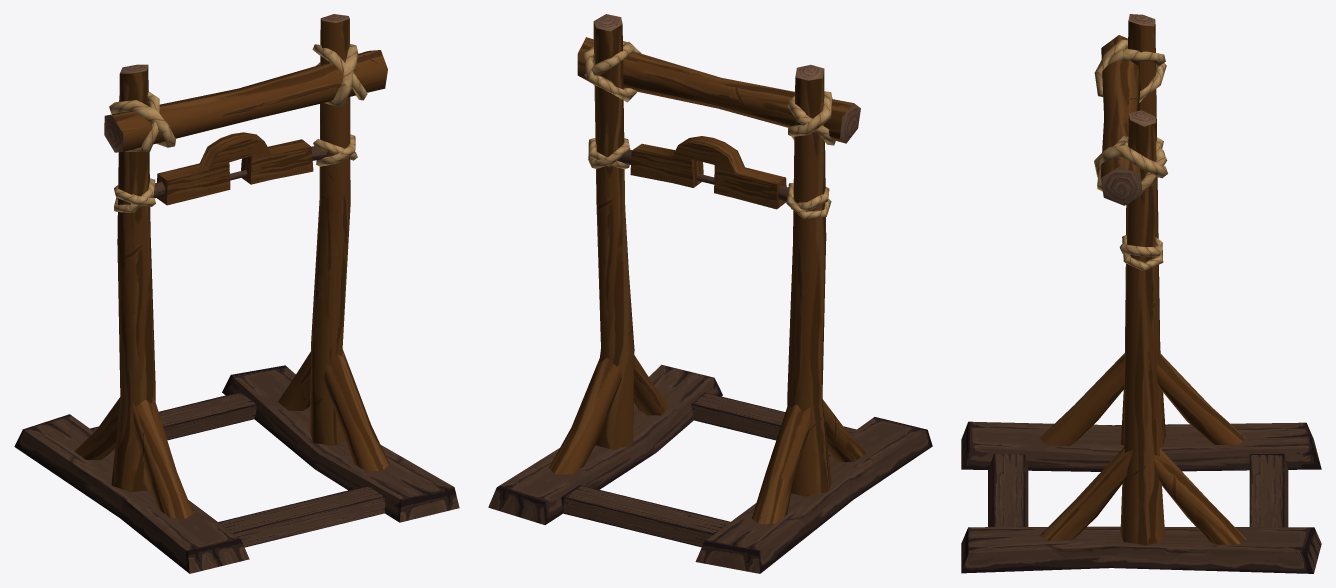
Rendered from SM_PROP_bell_battle.fbx.
The picture shows the model from 3 angles, left to right: view 1: azimuth 30°, elevation 25°; view 2: azimuth 150°, elevation 25°; view 3: azimuth 270°, elevation 25°; orthographic projection.
Parts seen in each view (by area): view 1: SM_PROP_bell_battle; view 2: SM_PROP_bell_battle; view 3: SM_PROP_bell_battle.
Boxes of the visible parts, box(x1,y1,x2,y2) form: SM_PROP_bell_battle: box(14, 14, 459, 573); SM_PROP_bell_battle: box(488, 14, 932, 573); SM_PROP_bell_battle: box(961, 14, 1321, 573).
Size of the model in its own units: 133 by 204 by 151.
